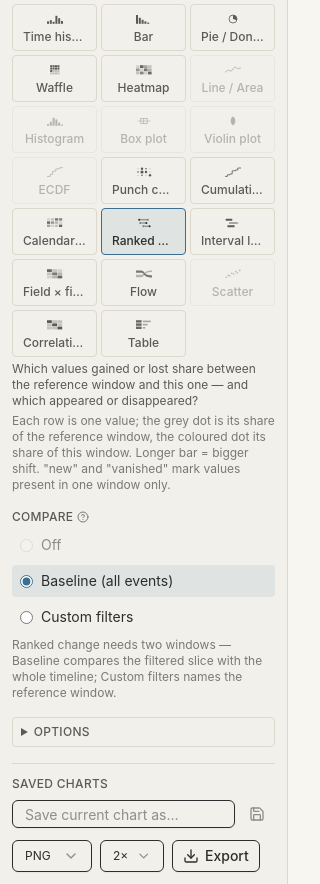
Test case: ChartRail — a figure that requires Compare › renders the per-window top-N and the layout select under Options
(page scrolled)
Click the heading "Options" at (62, 732), box 34,724 -> 90,739
(page scrolled)
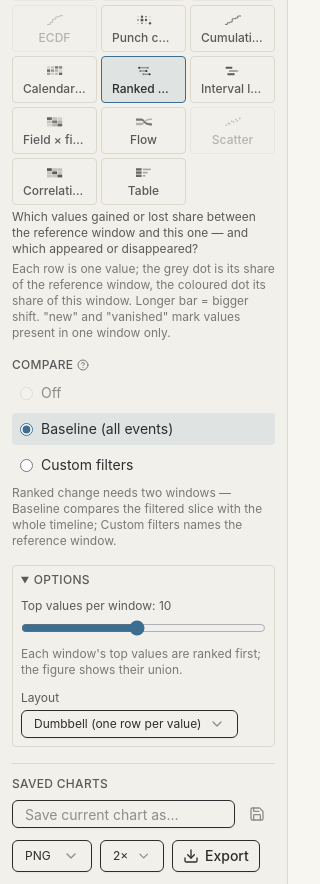
Now the text "Top values per window: 10" is shown, box 21,598 -> 171,613
Click the dropdown named "Layout" at (130, 724), box 21,710 -> 238,738
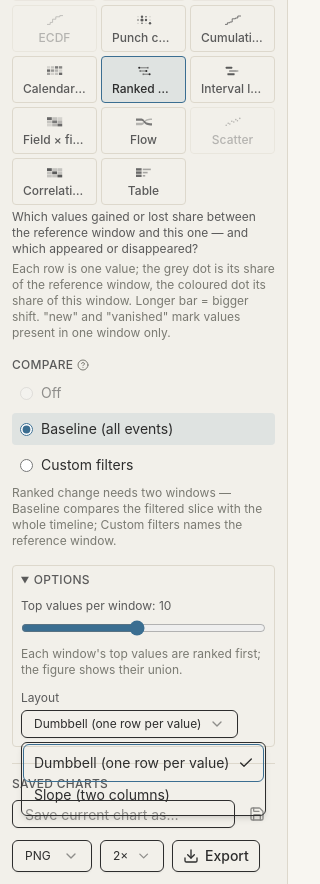
Now the option "Slope (two columns)" is shown, box 34,786 -> 170,803
